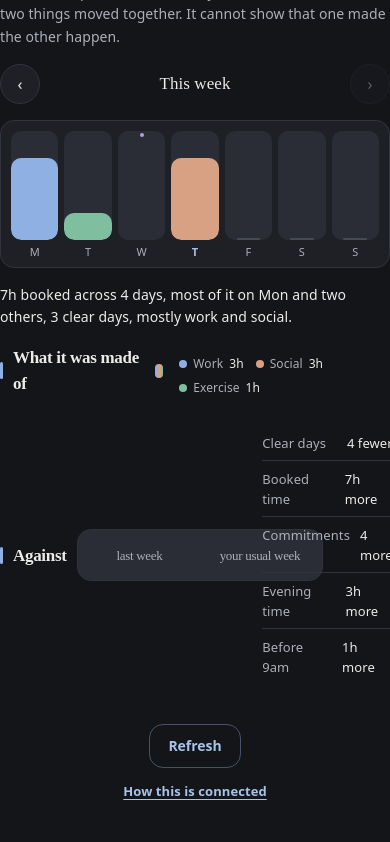
nothing leaves without a switch being flicked › keeps the title-sorting switch unavailable while titles are not kept
The image size is (390, 842).
(page scrolled)
Step 1. Click the button "How this is connected" → point(195, 792), box [123,778,267,806]
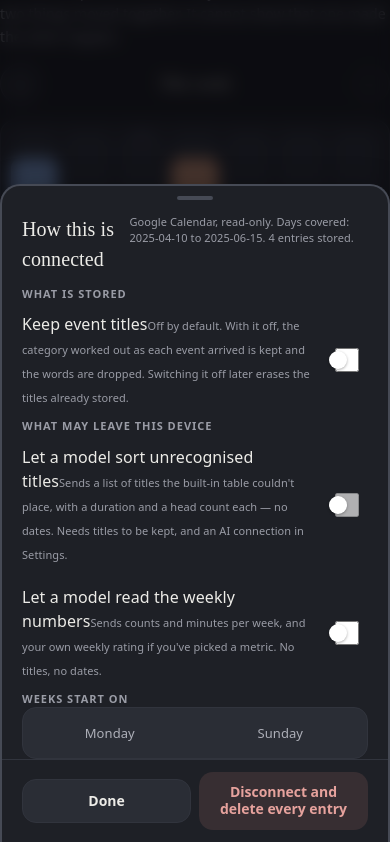
Expected: the 2nd checkbox is disabled, [326,493,368,517]
